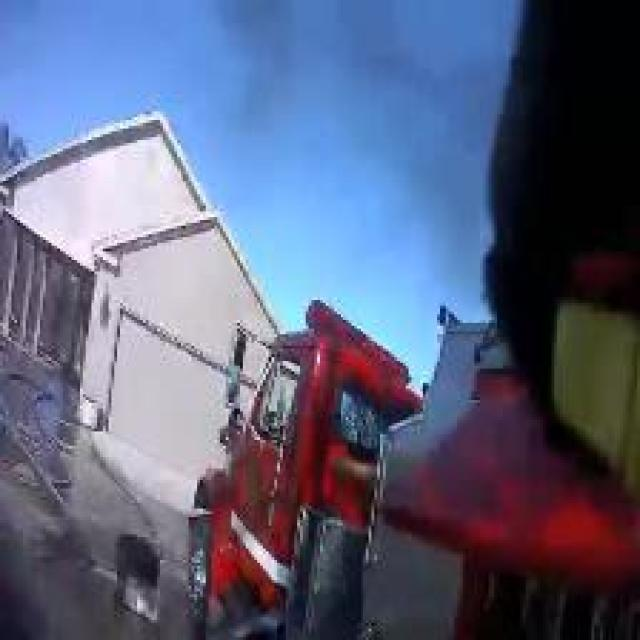other: (219, 293, 386, 560), (452, 420, 594, 560)
